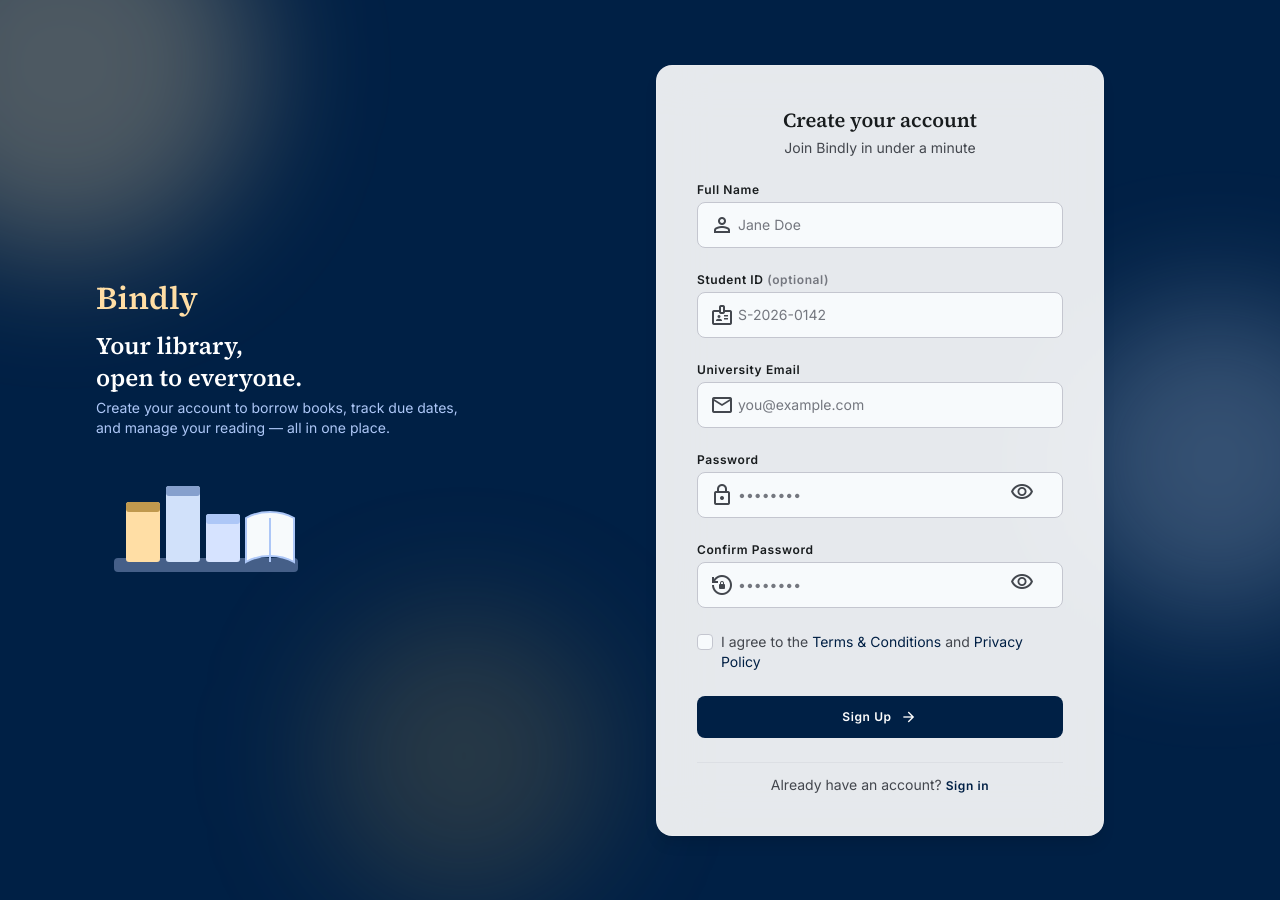
Test: Register - password strength meter › rates a short, all-lowercase password as Weak
Type "password" into the password field labelled "Password" at (880, 494), box [698,472,1062,516]
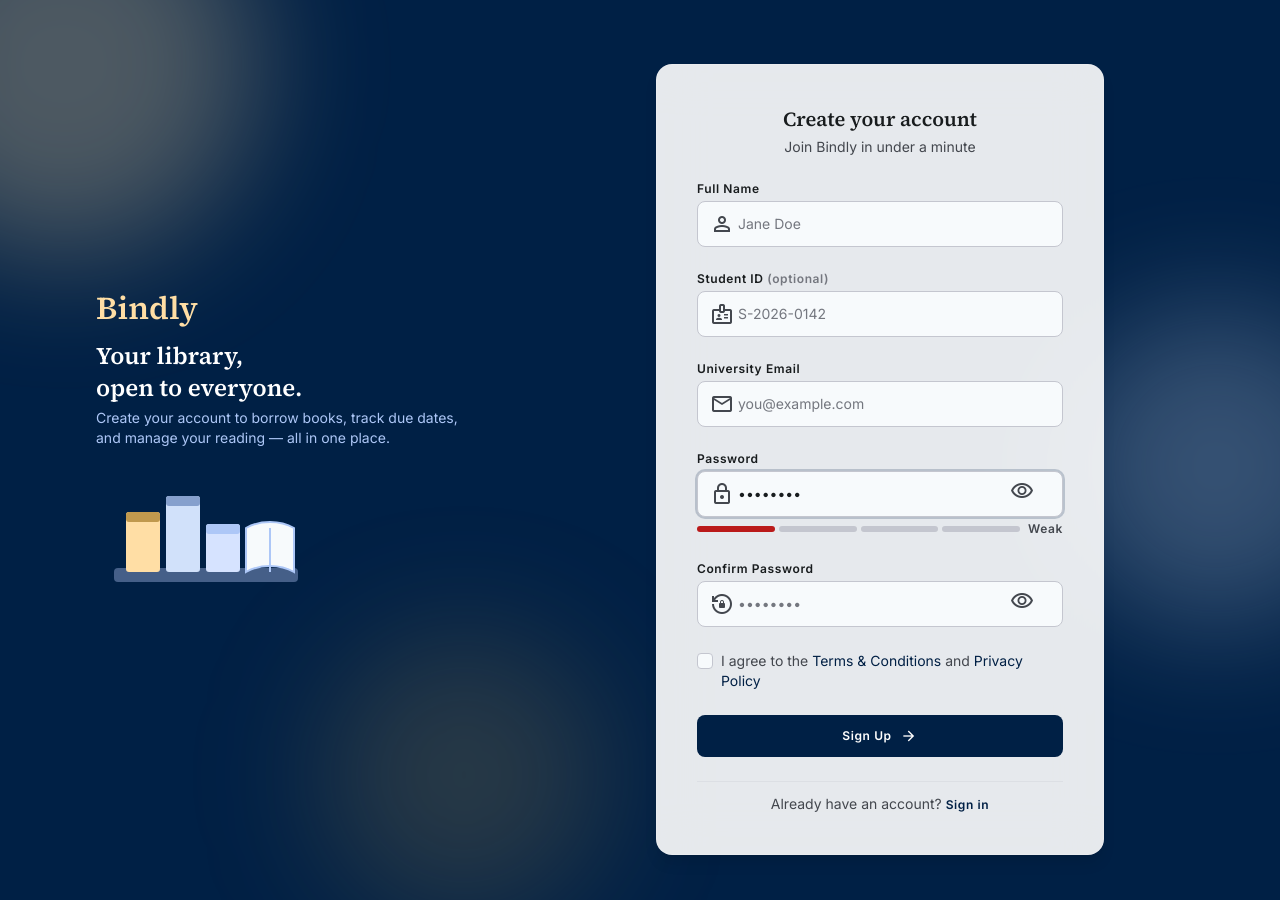
Expected: the text "Weak" is shown, [1028,521,1063,537]
